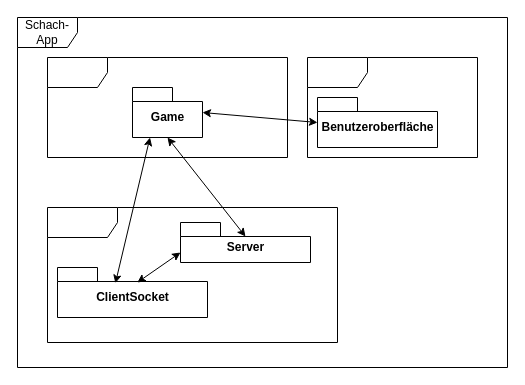
Some shapes in this 525 by 385 pixel diagram are drawn without their labels. Here are the shapes that lost their labels. From the top down, the centre of each, then its label:
(x=167, y=107): Model
(x=392, y=107): View
(x=192, y=274): Controller
